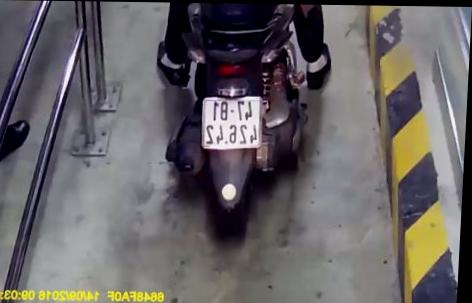License_Plate: (195, 92, 271, 157)
